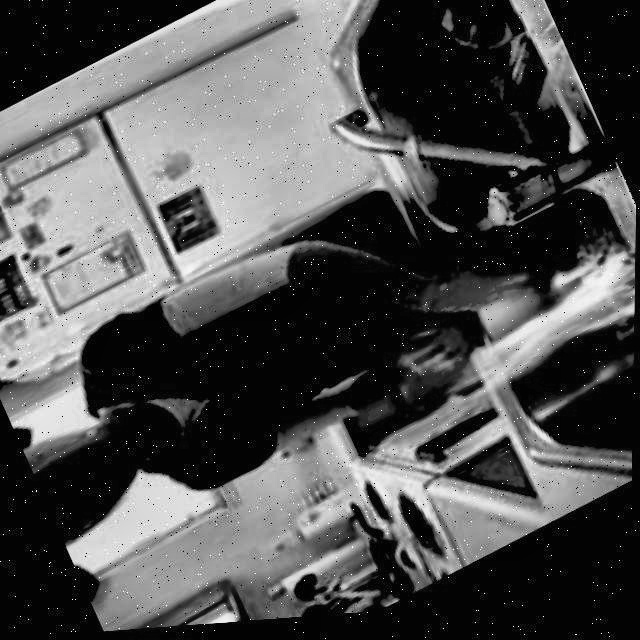Fire: (445, 248, 637, 415)
